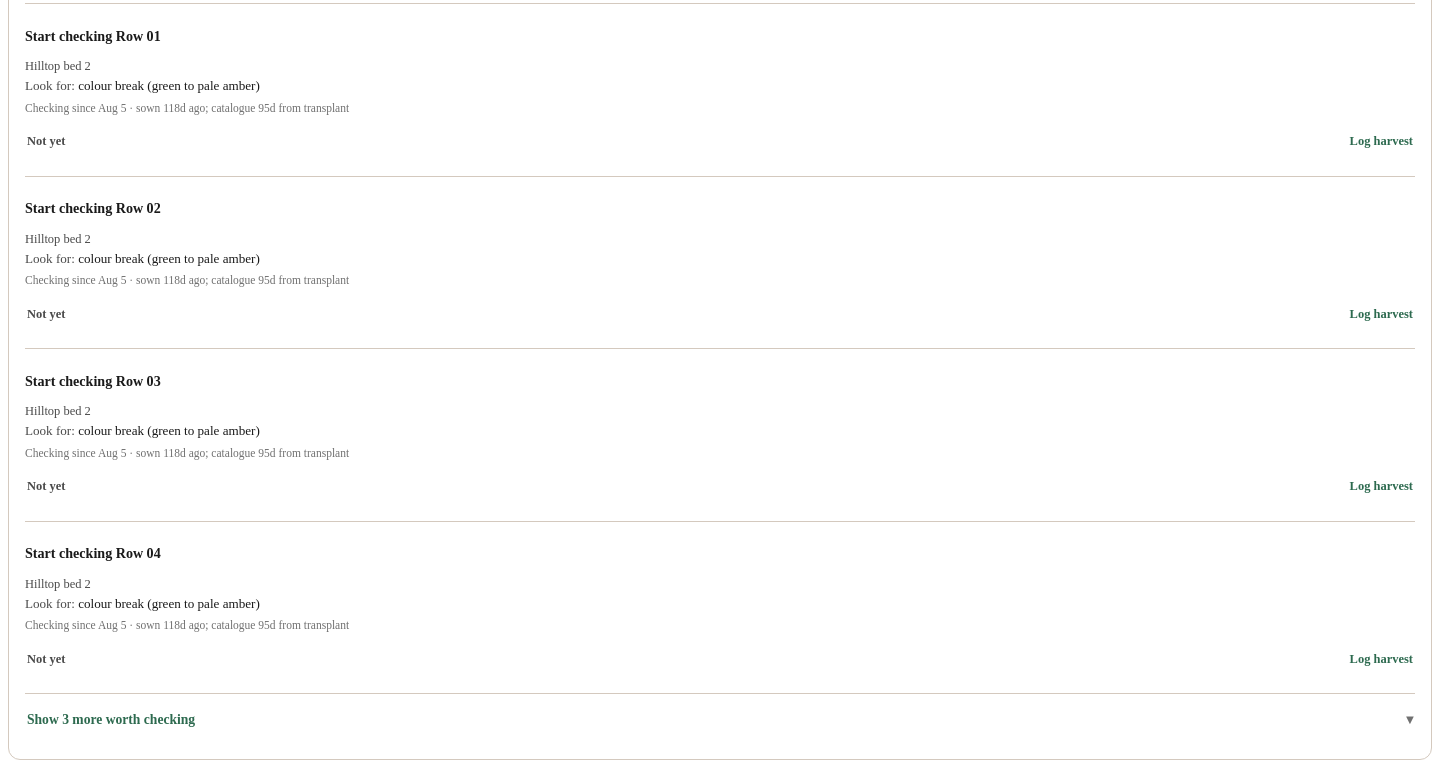
Test case: HarvestWatchBand — the tail (panel Q4) › the Snoozed subgroup defaults collapsed and prints return dates when opened
This screenshot has width=1440, height=768.
(page scrolled)
What coordinates should you click on to do the following:
click the button "Show 3 more worth checking ▾"
I would click on:
 (45, 719)
Its box is [25,693,1415,745].
(page scrolled)
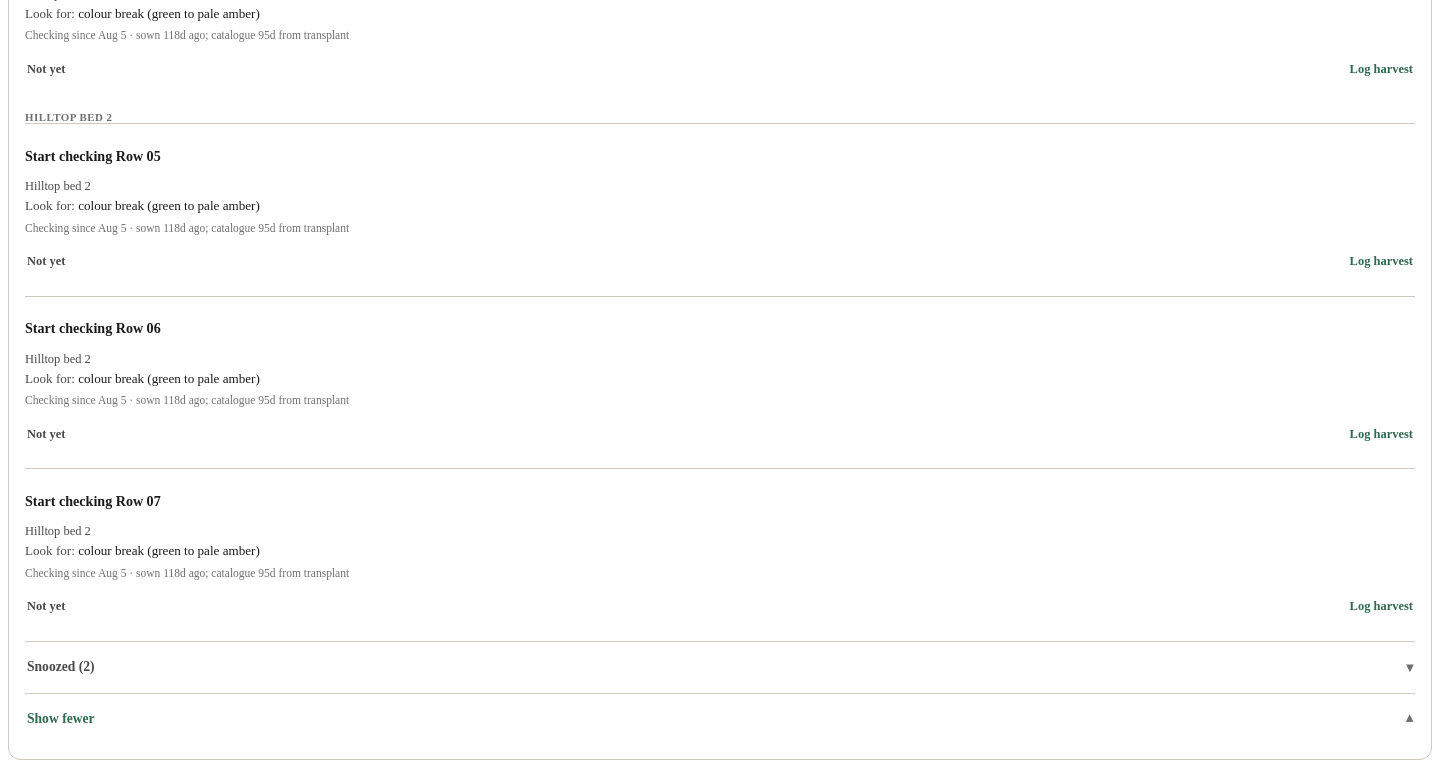
expect the element "Worth checking soon" does not show "back Aug 20": met
What coordinates should you click on to do the following:
click the button "Snoozed (2) ▾"
I would click on:
 (55, 667)
Its box is [25,641,1415,693].
(page scrolled)
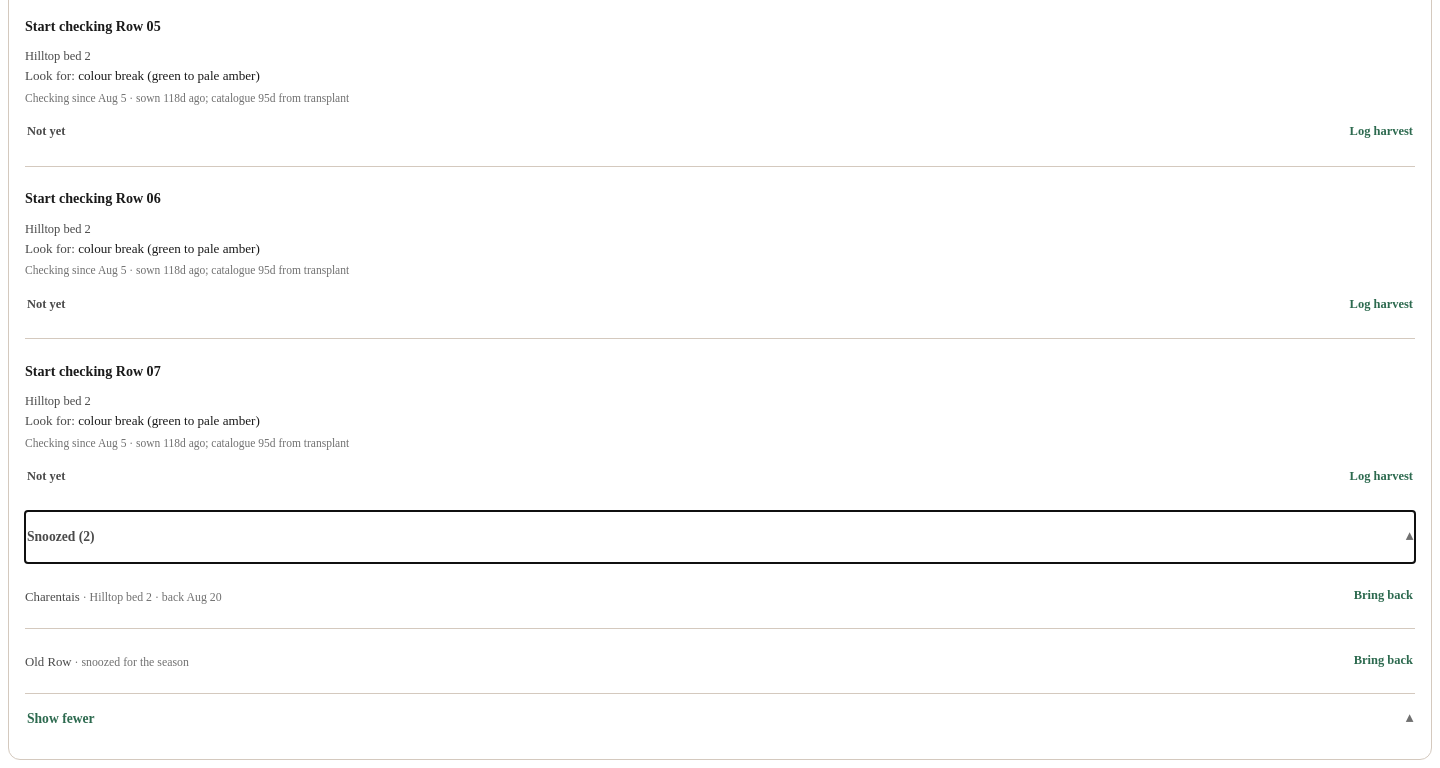
expect the text "· Hilltop bed 2 · back Aug 20" is shown: met, box [80,590,222,604]
expect the text "· snoozed for the season" is shown: met, box [72,655,189,669]
